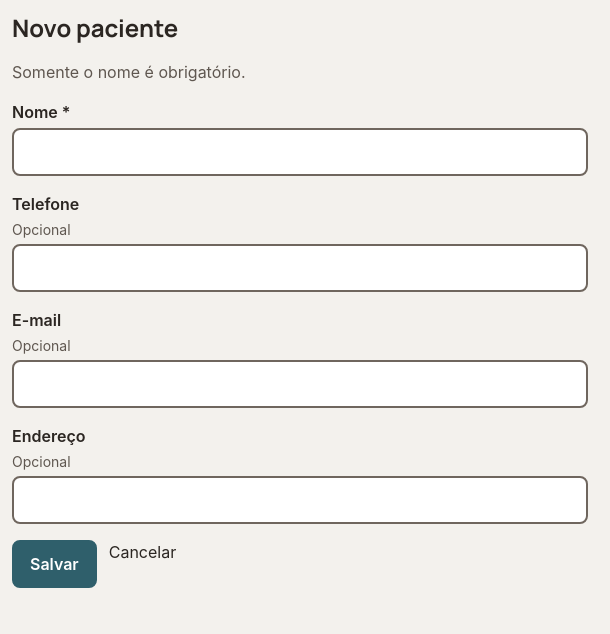
Test: Novo paciente (PAC-01) › e-mail fora do formato x@y mostra erro e não envia
Type "Ana" into the field labelled "Nome *" at (300, 152), box [12, 128, 588, 176]
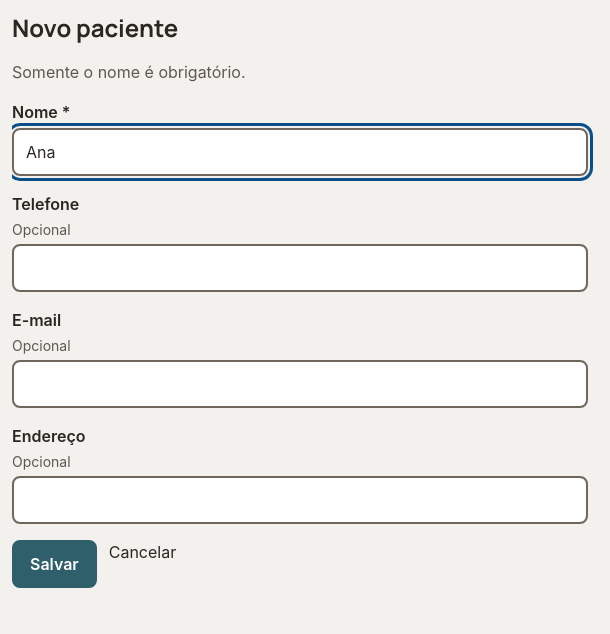
Type "ana" into the field labelled "E-mail" at (300, 384), box [12, 360, 588, 408]
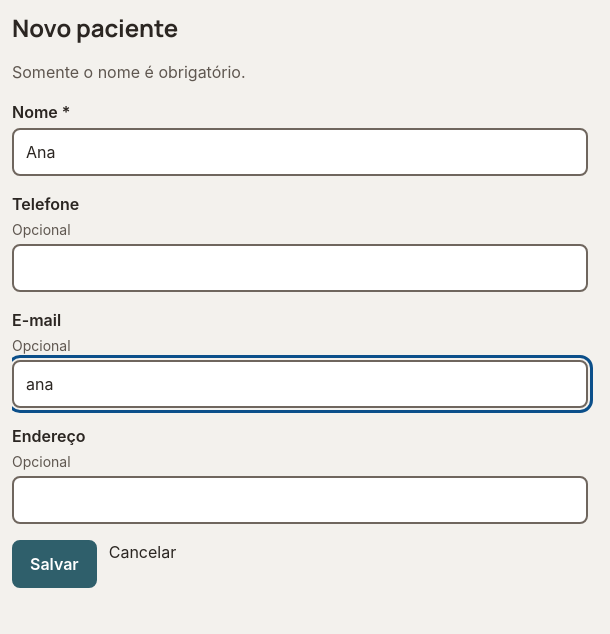
Click the button "Salvar" at (54, 564), box [12, 540, 97, 588]
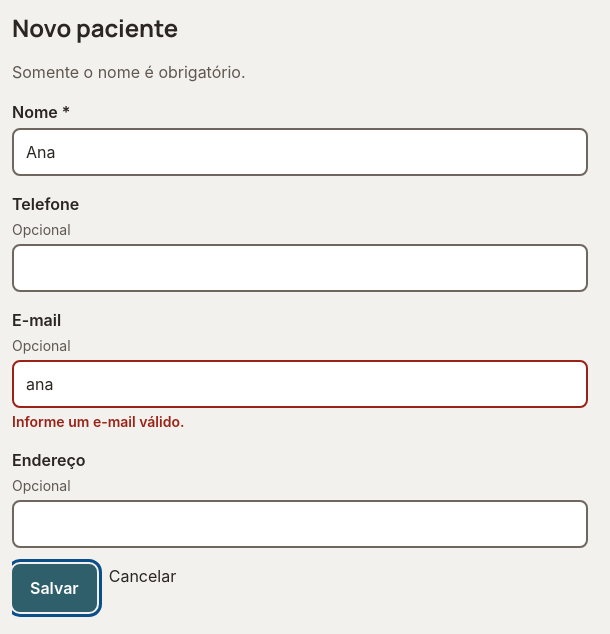
Expected: the text "Informe um e-mail válido." is shown, [12, 413, 184, 430]
